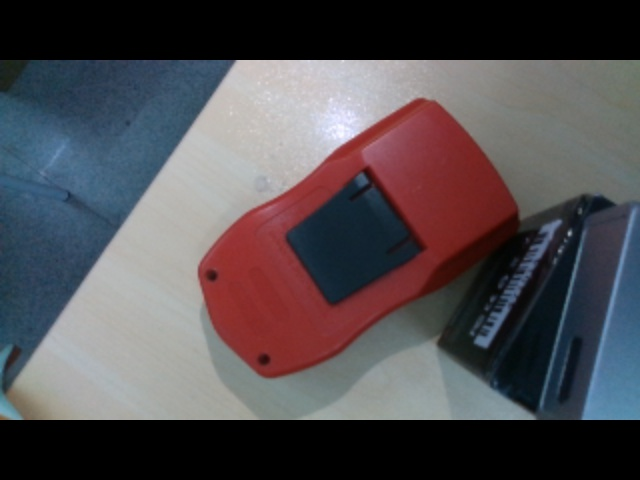Multimeter: (197, 98, 523, 380)
Screw holes: (255, 353, 271, 367), (206, 268, 219, 282)
